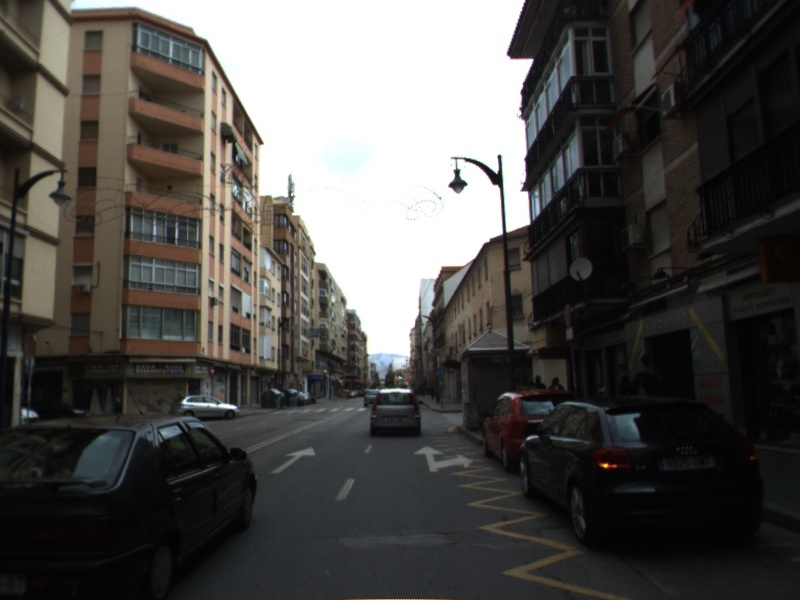STRAIGHT: (269, 445, 318, 476)
STRAIGHT_RIGHT: (411, 443, 476, 474)
